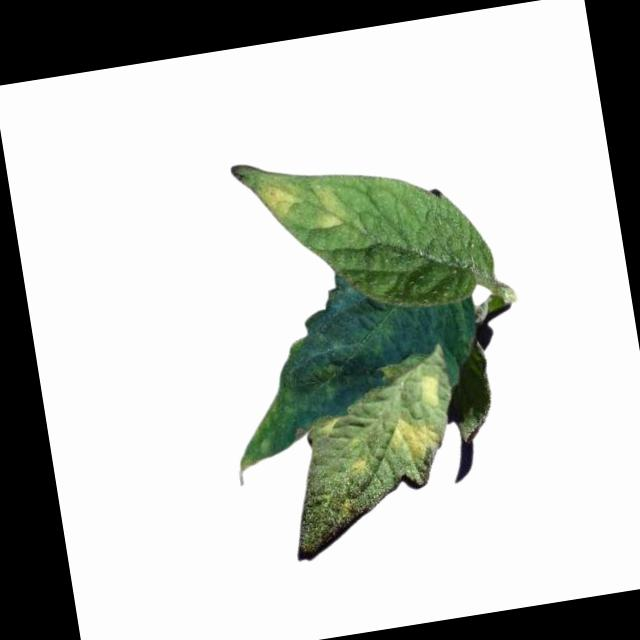Leaf_Mold: (232, 385, 311, 472), (387, 411, 449, 469), (251, 169, 308, 227), (310, 180, 353, 235), (415, 366, 446, 409), (344, 452, 378, 482)
